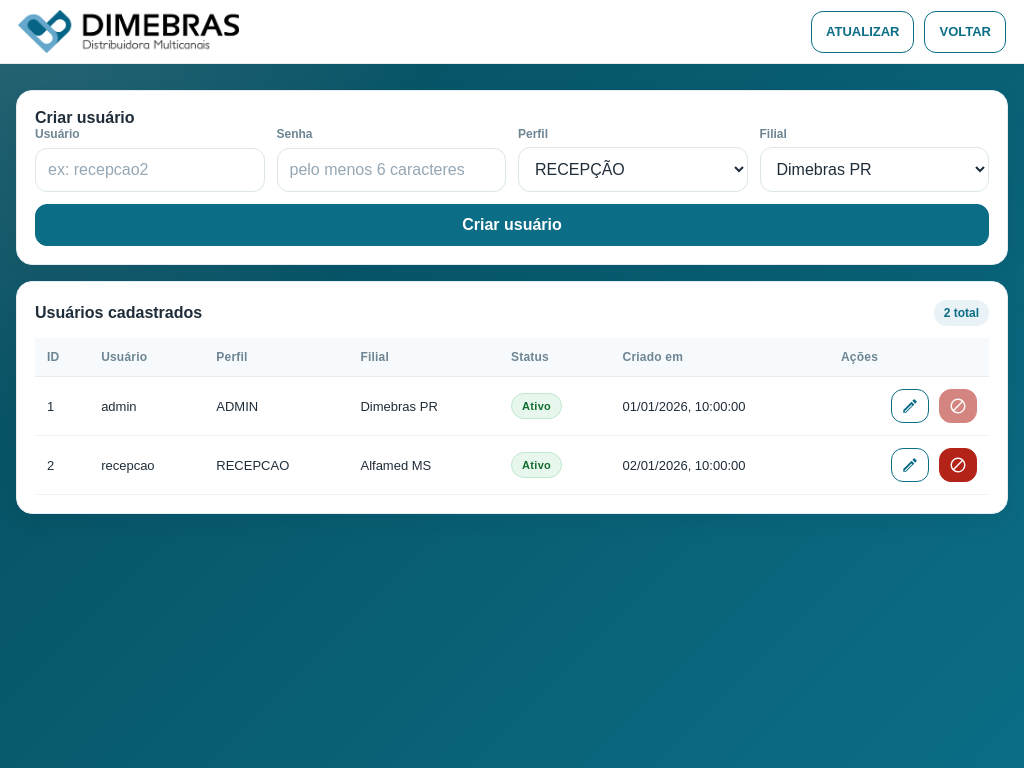
AdminUsers › validates create fields inline and in the consolidated alert without toast
Expected: the text "recepcao" is shown, [89,436,204,494]
Clear the field labelled "Usuário" at (150, 170), box [35,148,264,192]
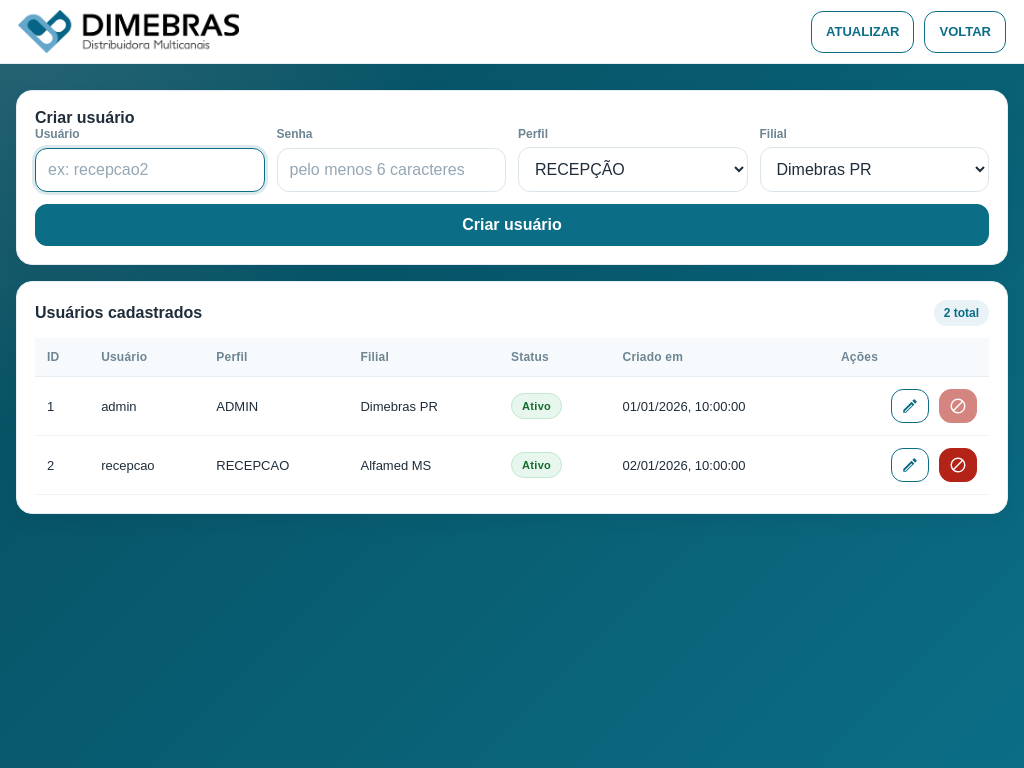
Clear the password field labelled "Senha" at (391, 170), box [276,148,506,192]
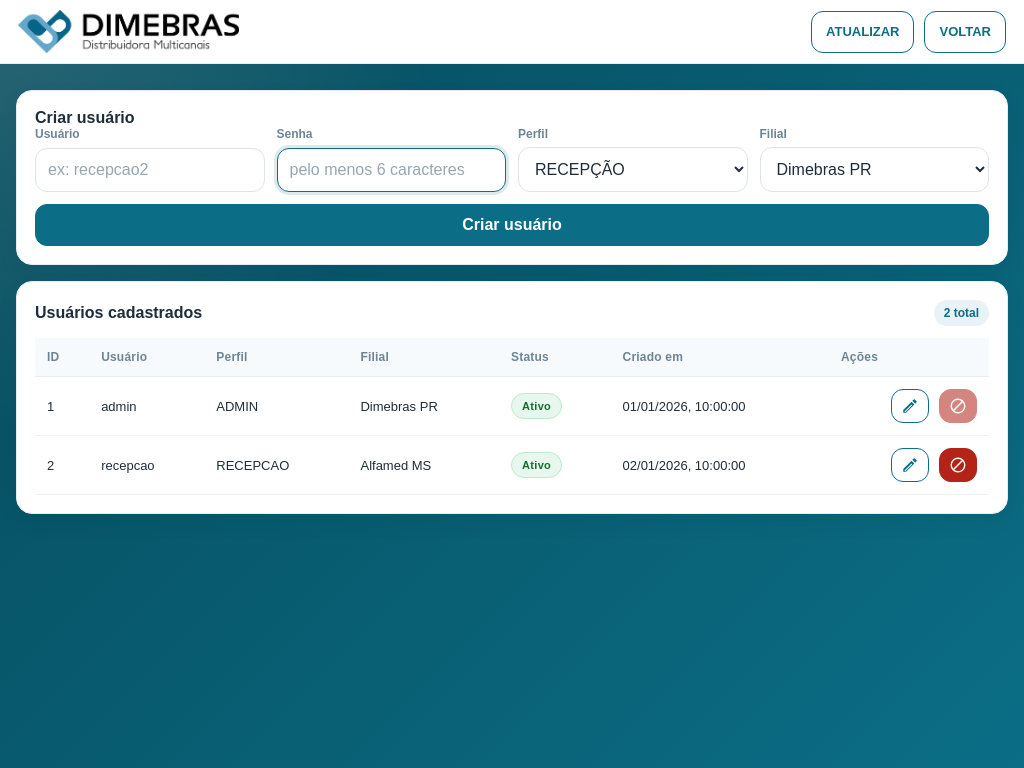
Click the button "Criar usuário".
click(512, 225)  # box [35,204,989,246]
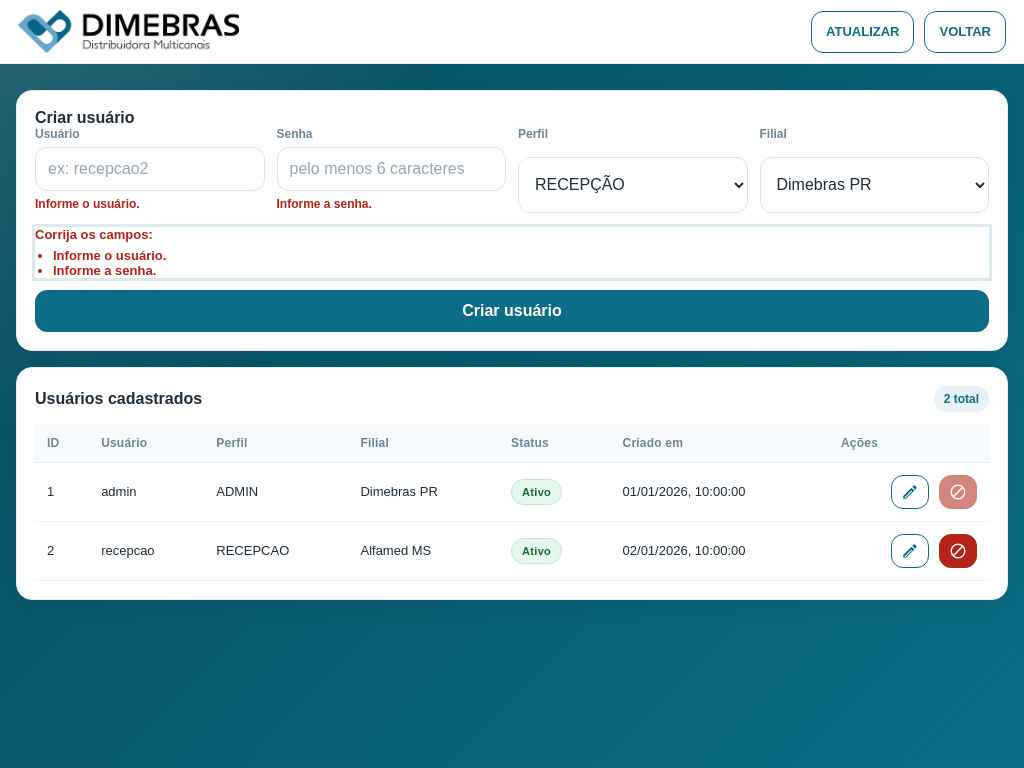
Expected: the message shows "Corrija os campos:", [35,227,153,242]
Expected: the list items read "Informe o usuário.", "Informe a senha.", in this order, [53,248,166,263]; [53,263,156,278]
Expected: the text "Informe o usuário." is shown, [35,197,140,211]
